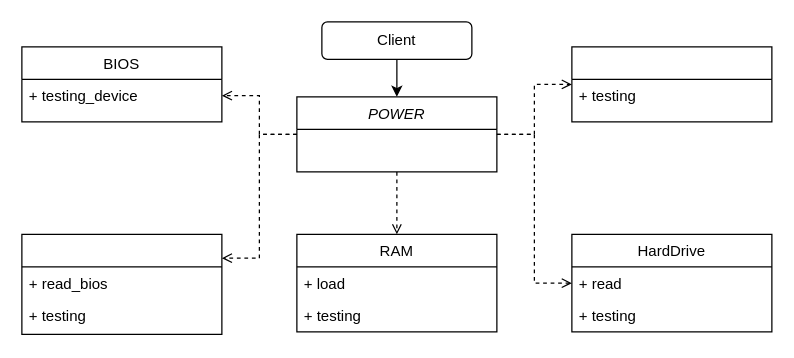
Some shapes in this 794 by 358 pixel diagram are drawn without their labels. The box of each missing label's shape, as (x1, y1, x2, y2) in pixels:
CPU: (21, 233, 222, 334)
GPU: (571, 46, 772, 122)
